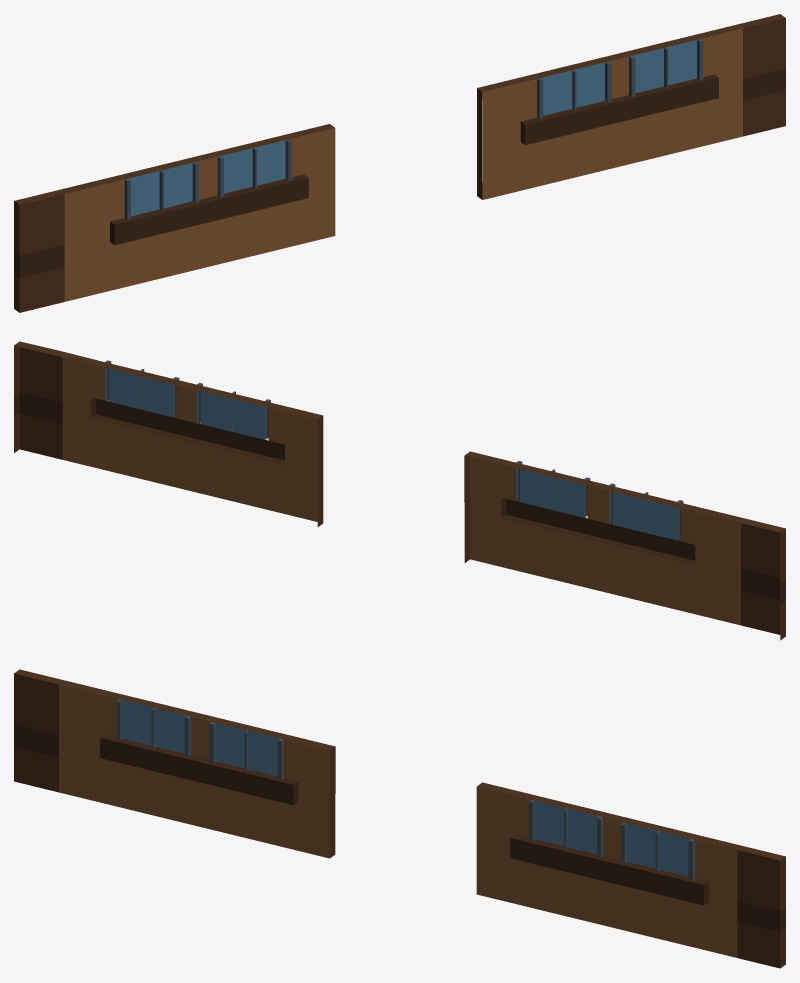
The model's file is WallsDownLibrary.fbx.
The picture shows the model from 3 angles, top to bottom: view 1: azimuth 30°, elevation 25°; view 2: azimuth 150°, elevation 25°; view 3: azimuth 330°, elevation 25°; orthographic projection.
Parts seen in each view (by area): view 1: Cube.006, Cube.007; view 2: Cube.006, Cube.007; view 3: Cube.006, Cube.007.
Boxes of the visible parts, x1,y1,x2,y2 form: Cube.006: (14, 124, 335, 312); Cube.007: (477, 14, 785, 199); Cube.006: (464, 451, 785, 640); Cube.007: (14, 341, 323, 526); Cube.006: (14, 669, 335, 858); Cube.007: (476, 782, 785, 968).
Size of the model in its own units: 7.2 by 0.9719 by 0.1693.
